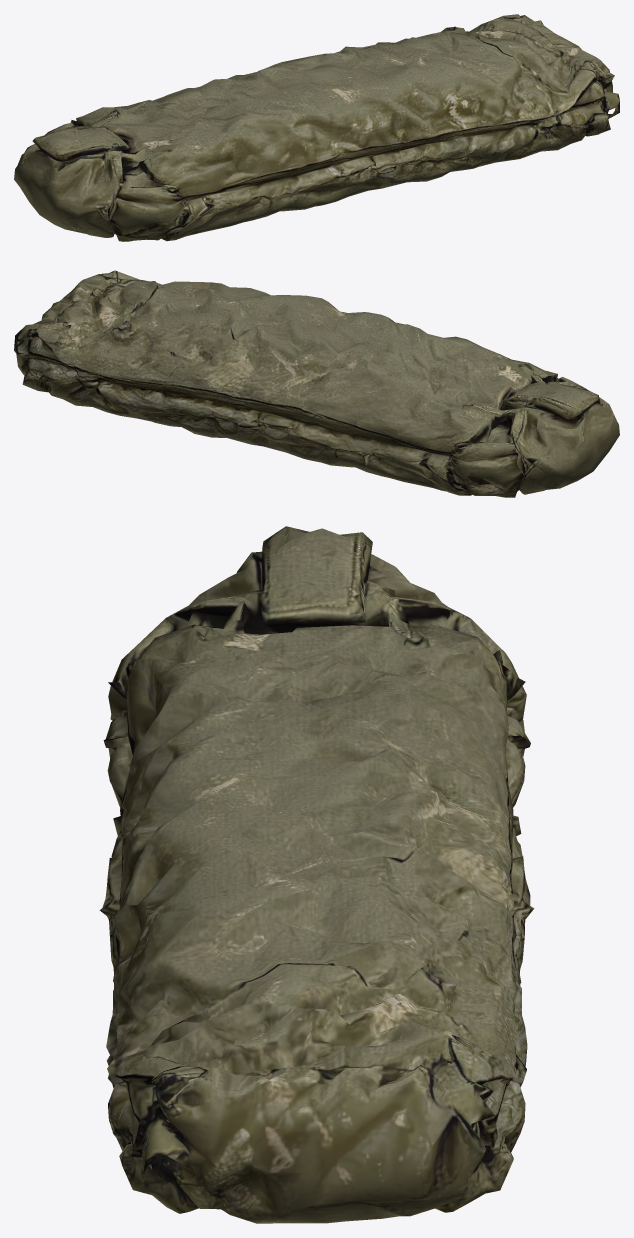
Rendered from bb_bedroll.e80833f5de.glb.
3 views of the same model, one above another, from view 1: azimuth 30°, elevation 25°; view 2: azimuth 150°, elevation 25°; view 3: azimuth 270°, elevation 25° (orthographic). The views are drawn at different scales.
Parts seen in each view (by area): view 1: bb_bedroll; view 2: bb_bedroll; view 3: bb_bedroll.
Part boxes in pixels (x1,y1,x2,y2): bb_bedroll: (14, 14, 619, 241); bb_bedroll: (14, 270, 619, 497); bb_bedroll: (99, 526, 534, 1223).
Size of the model in its own units: 1 by 0.1759 by 0.3377.
Materials: 1 (1 with a texture image).
